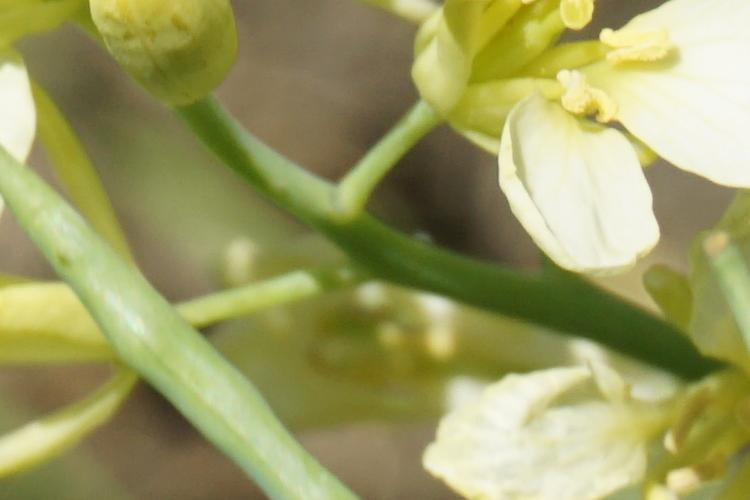bud: (97, 5, 244, 109)
white: (443, 14, 750, 247), (433, 267, 748, 489)
